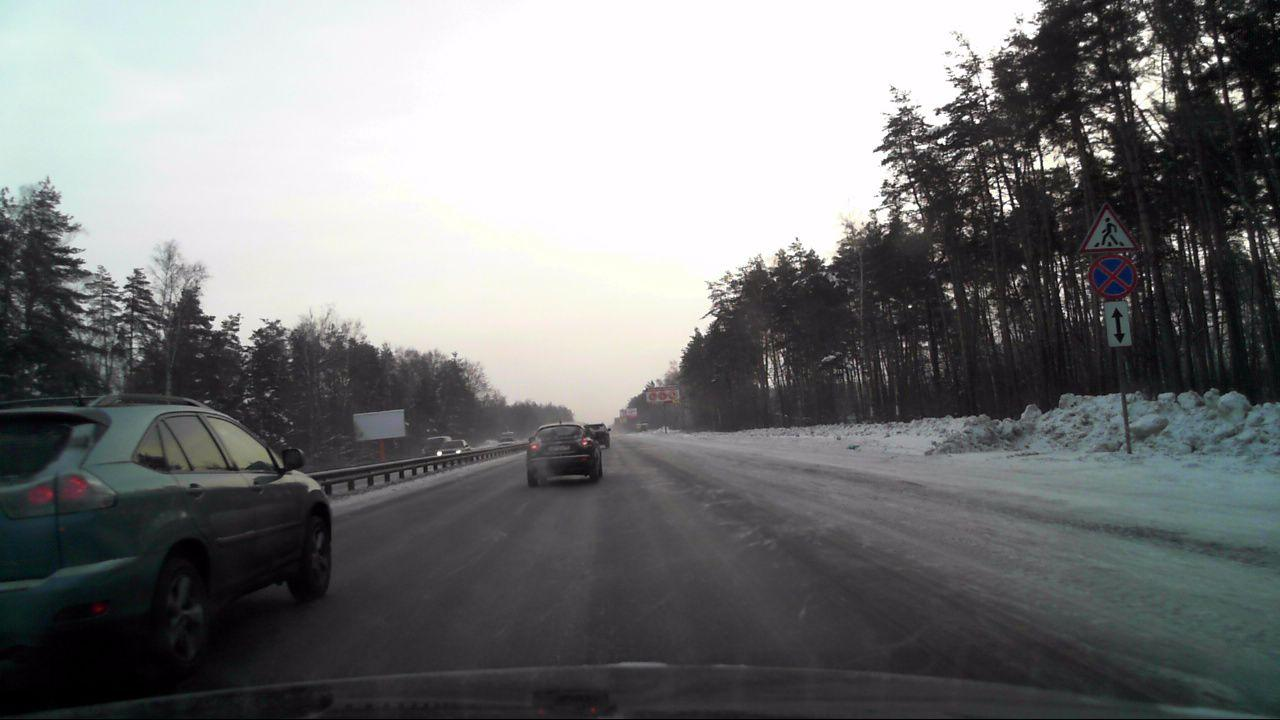1_22: (1078, 202, 1140, 254)
3_27: (1088, 254, 1138, 299)
8_2_4: (1104, 301, 1130, 347)
